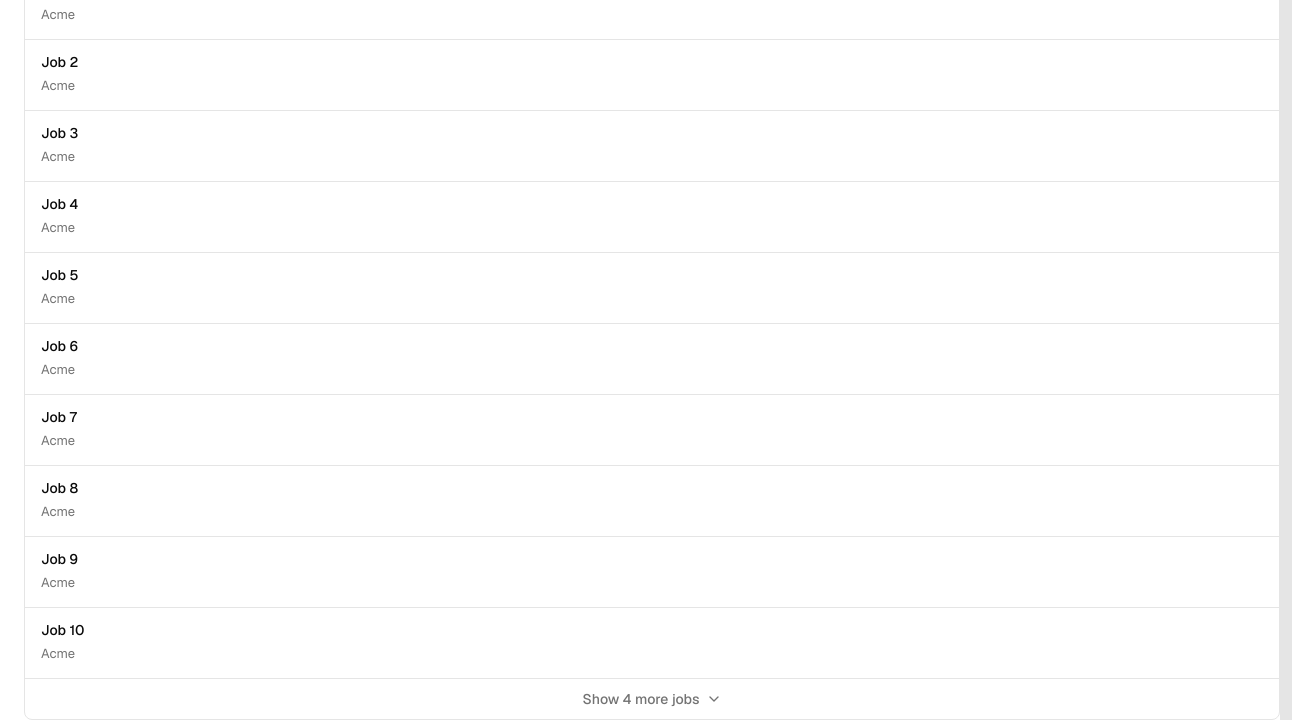
it: MessageParts › long job lists › shows the first 10 and reveals the rest on demand
(page scrolled)
Expected: the link "Job 11" is not shown
Click the button "Show 4 more jobs" at (652, 698), box x1=25 y1=678 x2=1279 y2=719
(page scrolled)
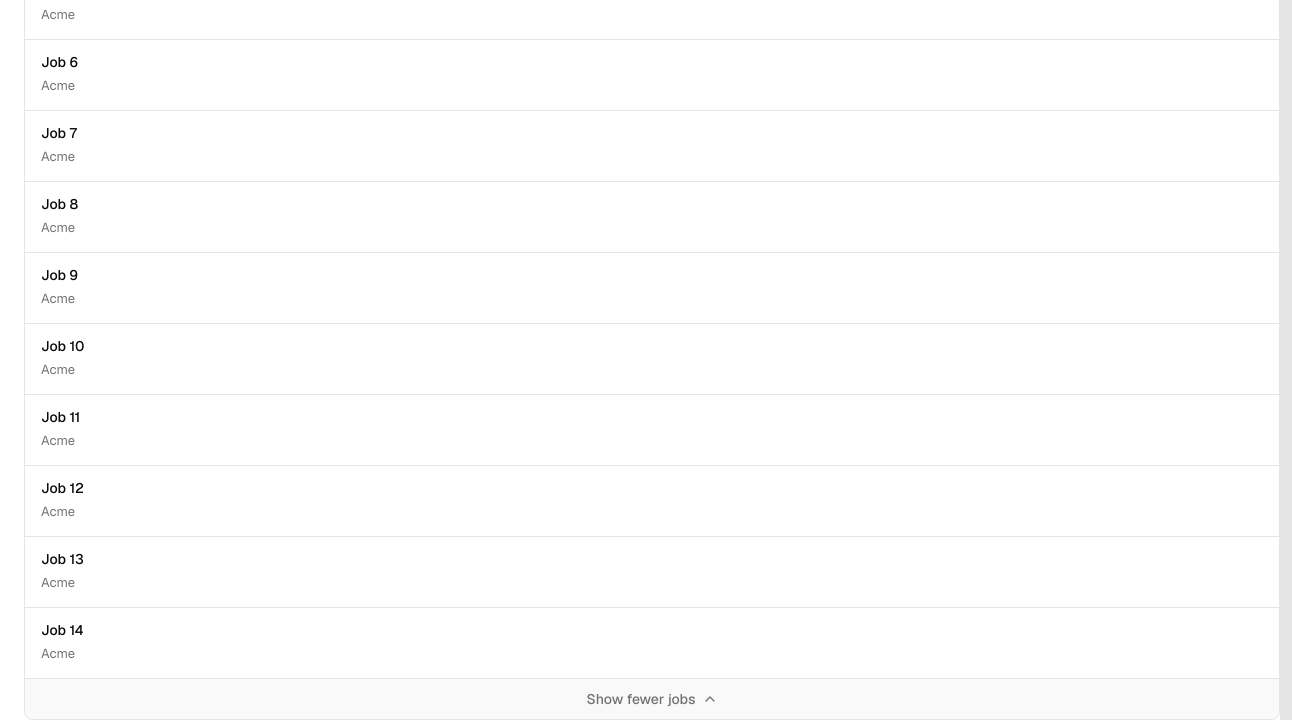
Now the number of links is 14
Click the button "Show fewer jobs" at (652, 698), box x1=25 y1=678 x2=1279 y2=719
(page scrolled)
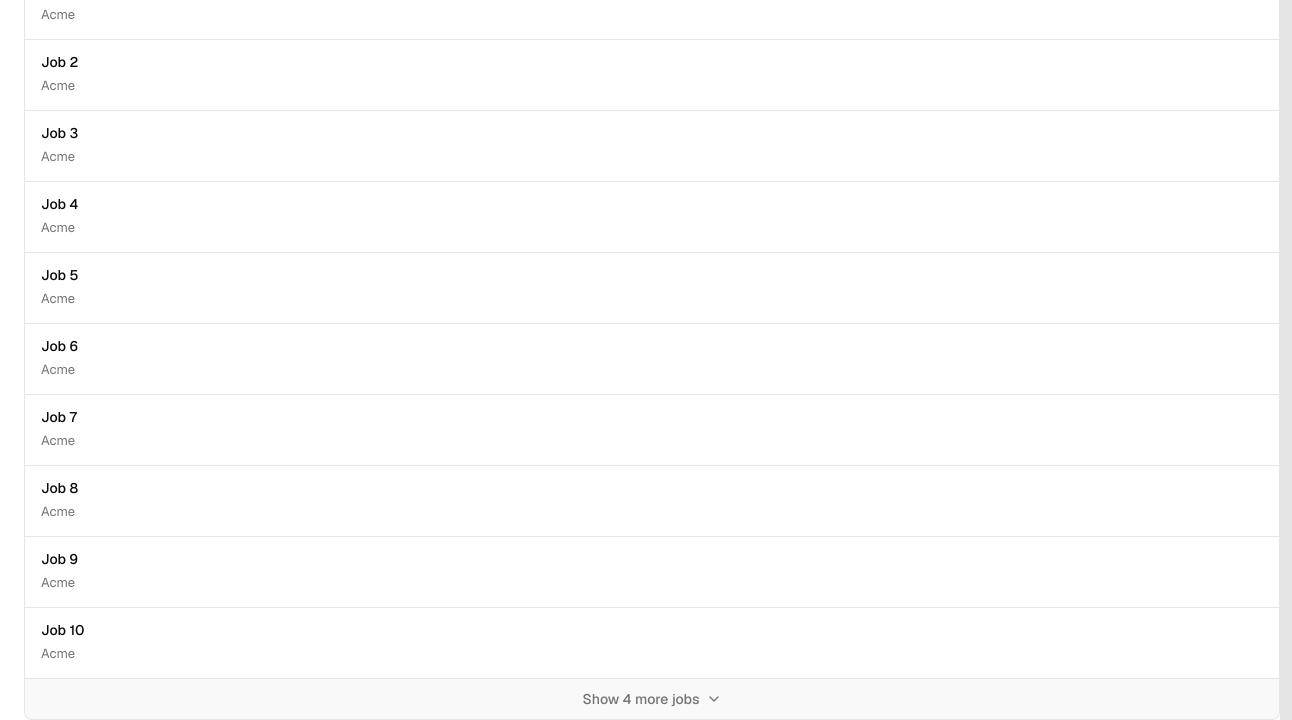
Now the number of links is 10
